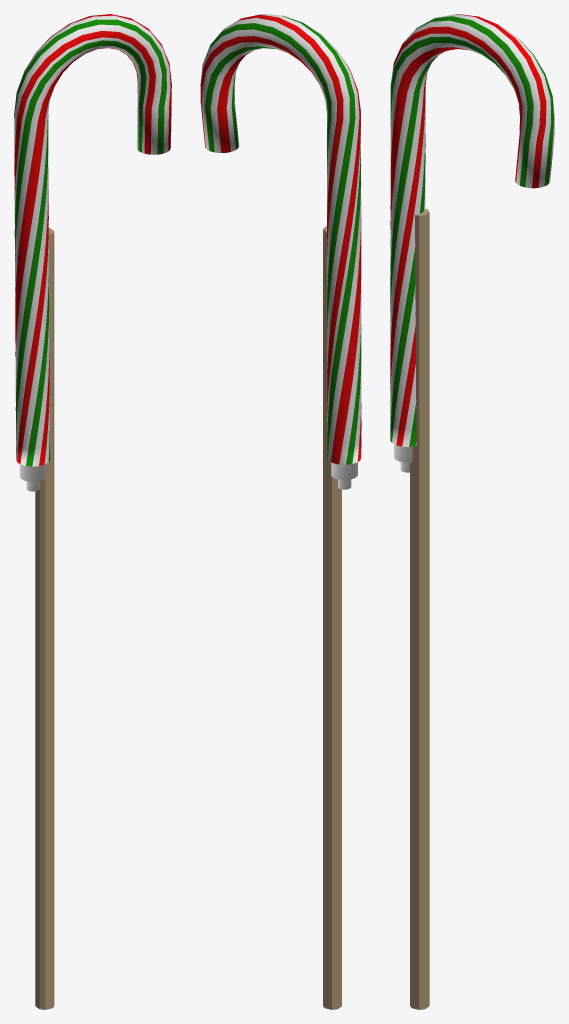
The model's file is Candy Cane2.fbx.
The picture shows the model from 3 angles, left to right: view 1: azimuth 30°, elevation 25°; view 2: azimuth 150°, elevation 25°; view 3: azimuth 330°, elevation 25°; orthographic projection. The views are drawn at different scales.
Parts seen in each view (by area): view 1: Sphere, Cube; view 2: Sphere, Cube; view 3: Sphere, Cube.
Part boxes in pixels (x1,y1,x2,y2): Sphere: (14, 14, 171, 491); Cube: (35, 228, 54, 1009); Sphere: (200, 14, 361, 489); Cube: (323, 226, 341, 1009); Sphere: (390, 14, 554, 472); Cube: (410, 209, 429, 1009).
Size of the model in its own units: 20.85 by 126 by 4.58.
